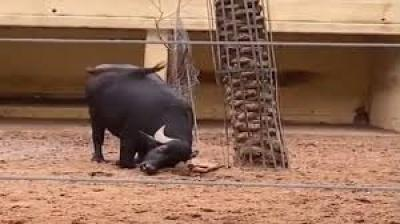buffalo: (85, 63, 192, 174)
